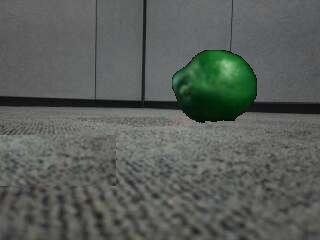Lime: (169, 49, 258, 123)
